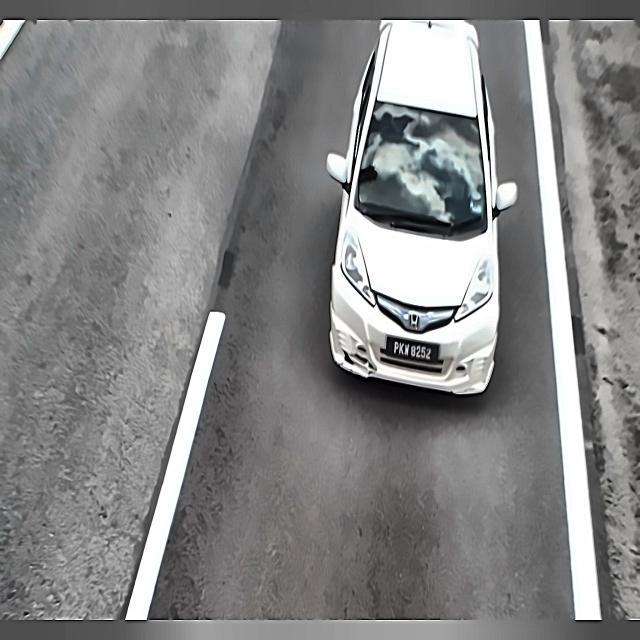car: (386, 333, 441, 374)
